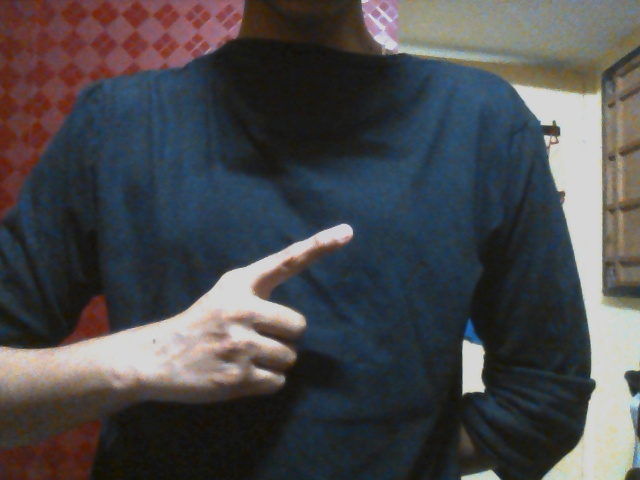I: (175, 224, 361, 406)
